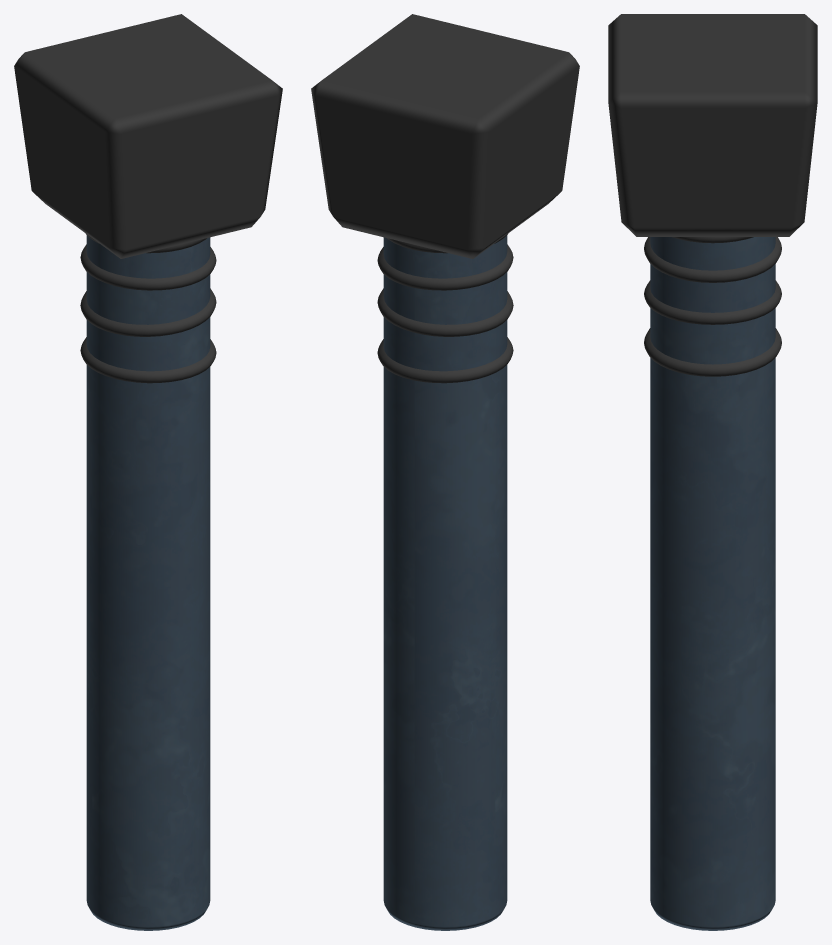
Rendered from SM_column02.FBX.
3 renders of one model, left to right at view 1: azimuth 30°, elevation 25°; view 2: azimuth 150°, elevation 25°; view 3: azimuth 270°, elevation 25°, orthographic.
Parts seen in each view (by area): view 1: SM_column02_LOD0; view 2: SM_column02_LOD0; view 3: SM_column02_LOD0.
Part boxes in pixels (<box>): SM_column02_LOD0: <box>14,14,282,930</box>; SM_column02_LOD0: <box>311,14,579,930</box>; SM_column02_LOD0: <box>608,14,817,930</box>.
Size of the model in its own units: 100 by 100 by 450.
